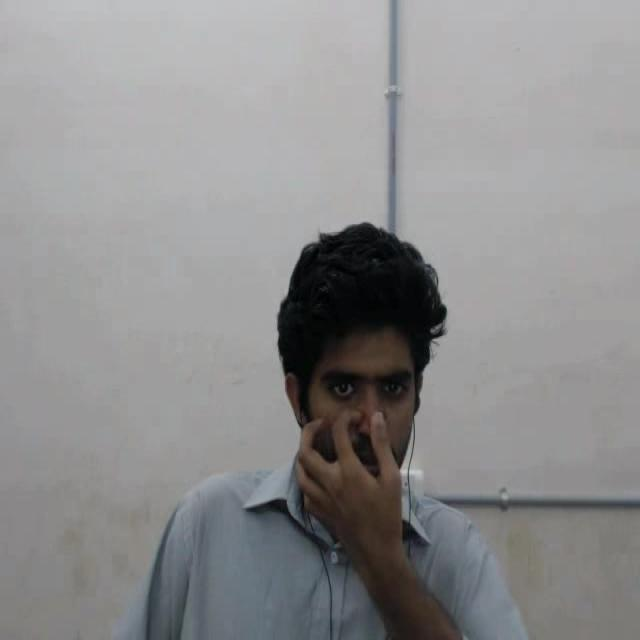Bored: (242, 204, 466, 555)
